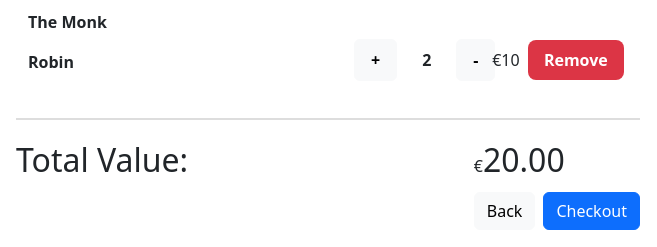
Test: Cart Component › updates total correctly when adding/removing items
Expected: the text "20.00" is shown, top-left (483, 138), bottom-right (565, 181)
# Click on the "+" button to increase quantity
Click the button "+".
click(376, 60)  # box top-left (354, 39), bottom-right (397, 81)
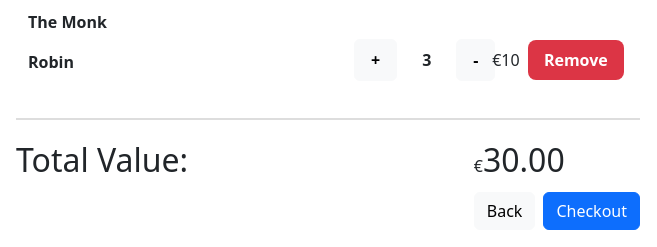
Expected: the button "3" is shown, top-left (405, 39), bottom-right (448, 81)
